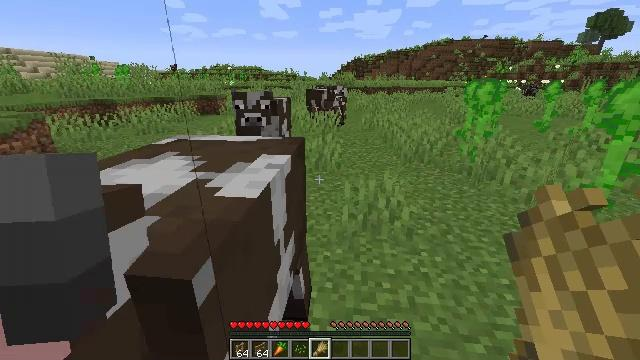cow: (3, 134, 311, 360), (233, 92, 292, 139), (303, 84, 346, 123), (522, 85, 538, 98)
